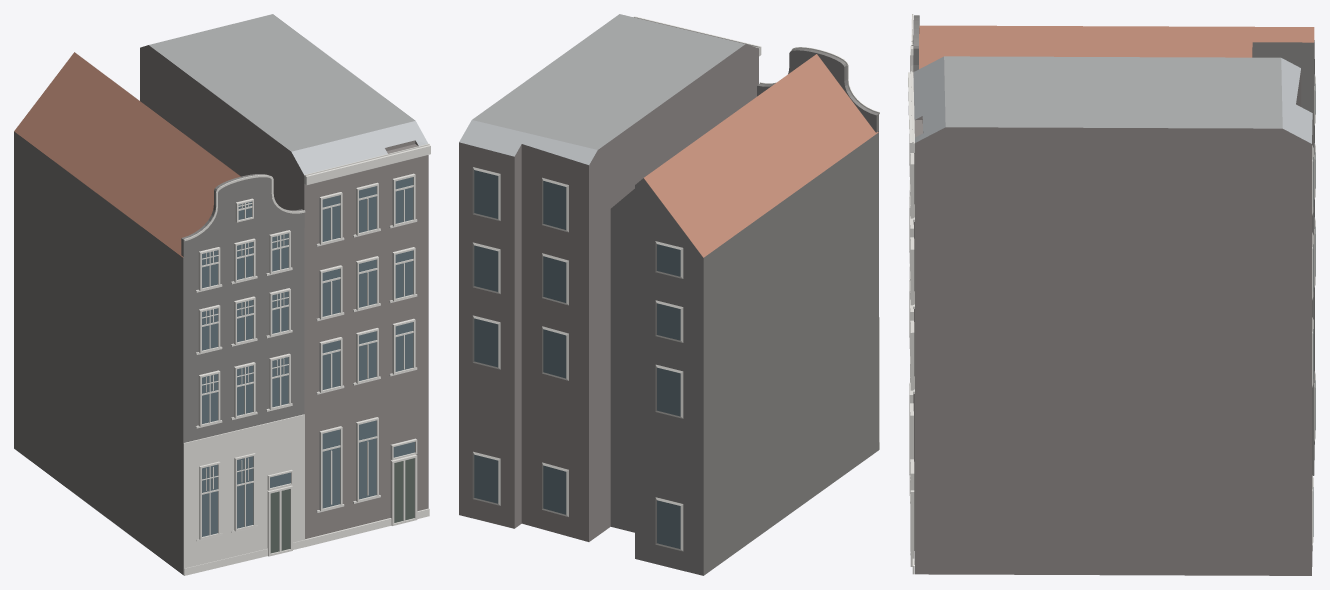
The model's file is chunk-face-bloemgracht-4-10-h1.glb.
3 renders of one model, left to right at view 1: azimuth 30°, elevation 25°; view 2: azimuth 150°, elevation 25°; view 3: azimuth 270°, elevation 25°, orthographic. The views are drawn at different scales.
Parts seen in each view (by area): view 1: face-bloemgracht-4-10-h1; view 2: face-bloemgracht-4-10-h1; view 3: face-bloemgracht-4-10-h1.
Boxes of the visible parts, x1,y1,x2,y2 form: face-bloemgracht-4-10-h1: (14, 14, 430, 575); face-bloemgracht-4-10-h1: (459, 14, 879, 575); face-bloemgracht-4-10-h1: (908, 14, 1315, 575).
Bounding box in the file's own units: 10.86 × 16.11 × 13.31.
